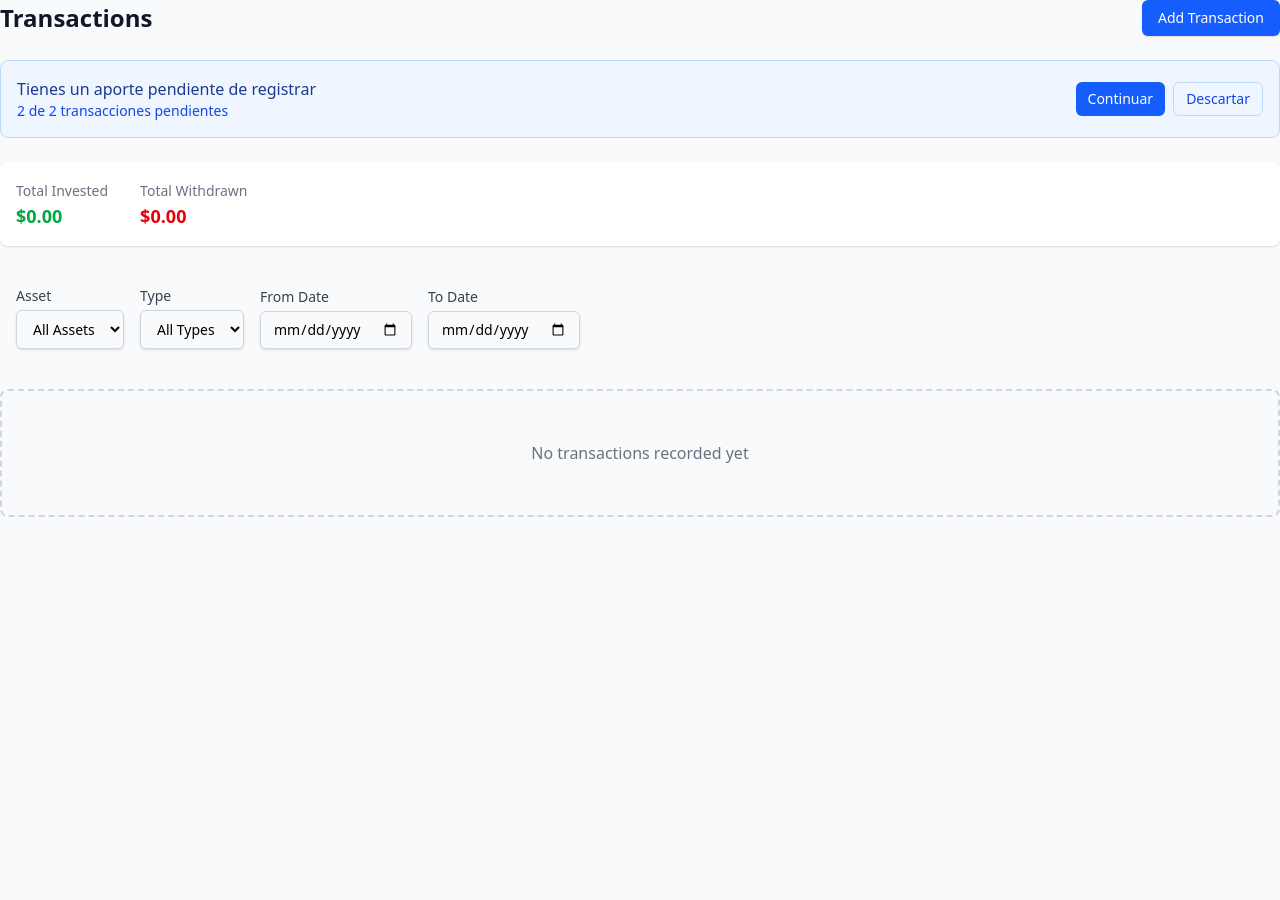
Test case: TransactionsPage › Pending Contribution Banner › should clear pending contribution after confirmation
Note: Click discard to open dialog
Click the button "Descartar" at (1218, 99), box [1173,82,1263,116]
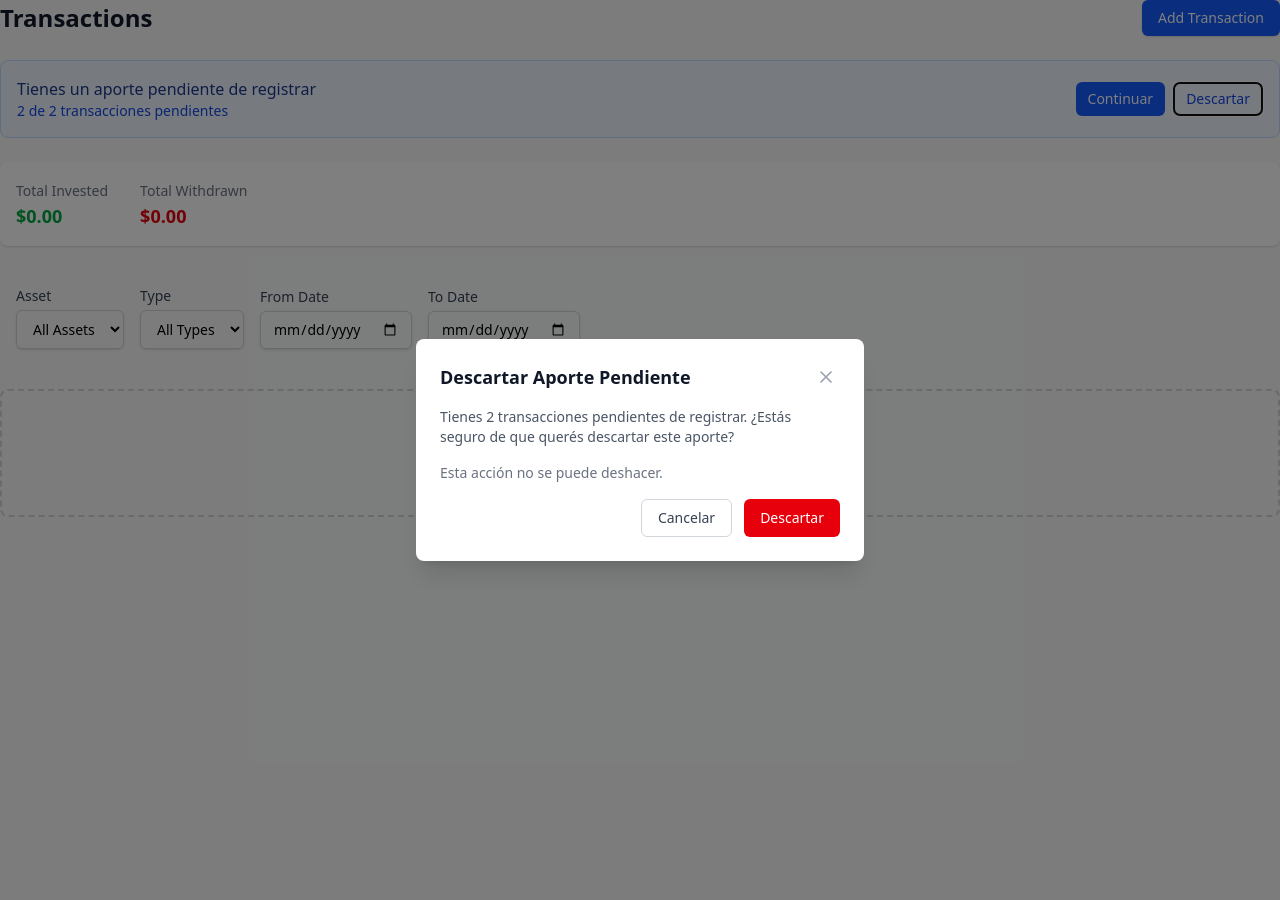
Result: the text "transacciones pendientes de registrar" is shown at [440,407,791,446]
Note: Click confirm button in dialog (there are two "Descartar" buttons now)
Click the button "Descartar" at (792, 518), box [744,499,840,537]
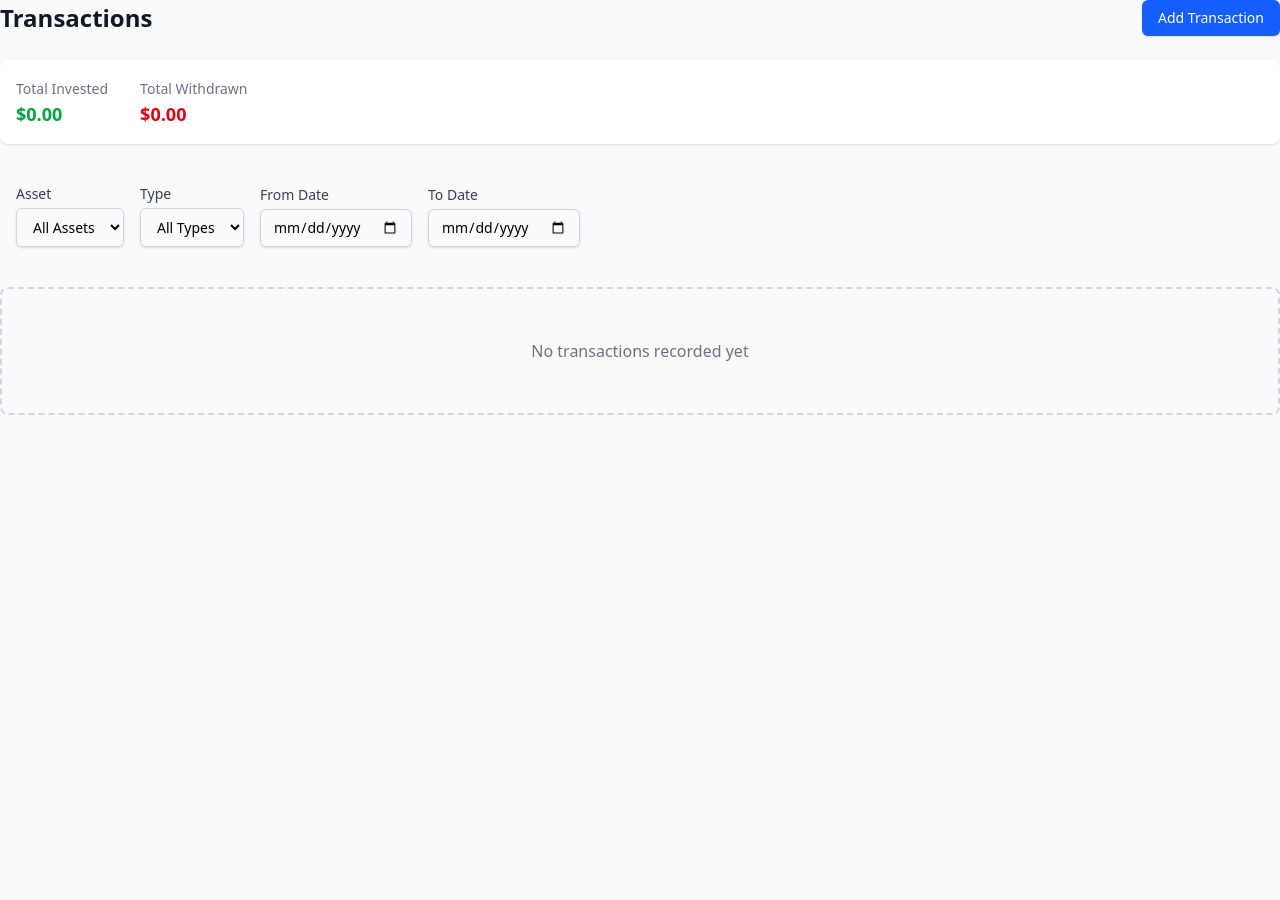
Result: the text "aporte pendiente" is gone
